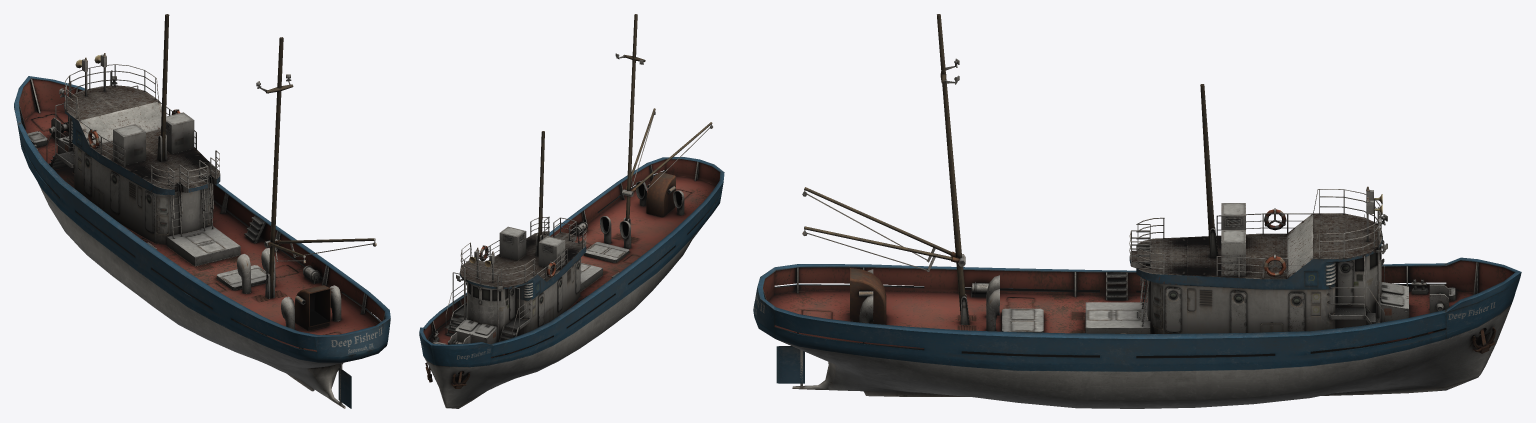
3 views of the same model, side by side, from view 1: azimuth 30°, elevation 25°; view 2: azimuth 150°, elevation 25°; view 3: azimuth 270°, elevation 25° (orthographic). The views are drawn at different scales.
Parts seen in each view (by area): view 1: Object003, Object001, BOATLOW; view 2: Object003, Object001, BOATLOW; view 3: Object001, Object003, BOATLOW.
Boxes of the visible parts, bbox=[...] form: Object003: bbox=[19, 79, 384, 351]; Object001: bbox=[14, 76, 390, 408]; BOATLOW: bbox=[19, 14, 385, 403]; Object003: bbox=[423, 159, 720, 357]; Object001: bbox=[419, 157, 724, 408]; BOATLOW: bbox=[425, 14, 712, 388]; Object001: bbox=[753, 257, 1521, 408]; Object003: bbox=[763, 213, 1514, 349]; BOATLOW: bbox=[763, 14, 1495, 386].
Bounding box in the file's own units: 0.0611 × 0.1583 × 0.2889.
